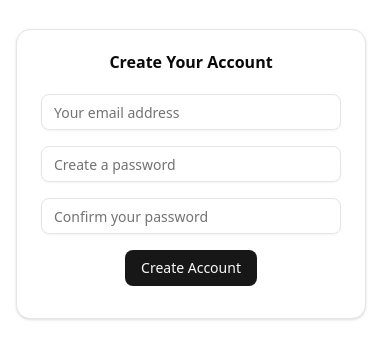
Test: CreateAccount Component › shows error when passwords don't match
Note: Enter different passwords
Type "password123" into the password field with placeholder "Create a password" at point(191, 164), box top-left (41, 146), bottom-right (341, 182)
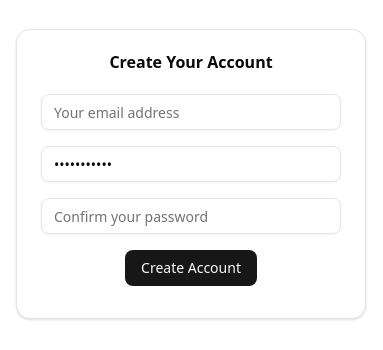
Type "differentpassword" into the password field with placeholder "Confirm your password" at point(191, 216), box top-left (41, 198), bottom-right (341, 234)
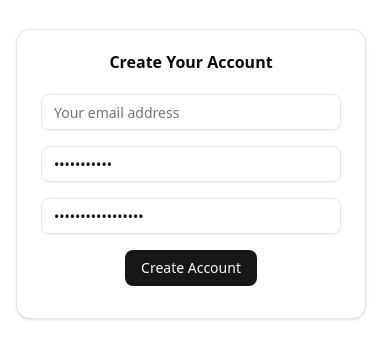
Note: Blur to trigger validation
Leave the 2nd password field with placeholder "Confirm your password", box top-left (41, 198), bottom-right (341, 234)
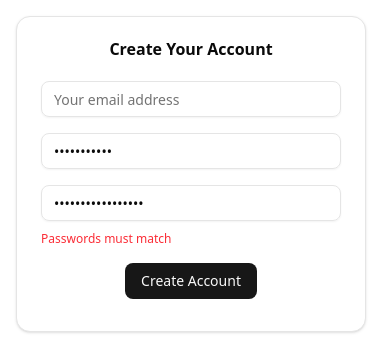
Result: the text "Passwords must match" is shown at top-left (41, 230), bottom-right (172, 247)
